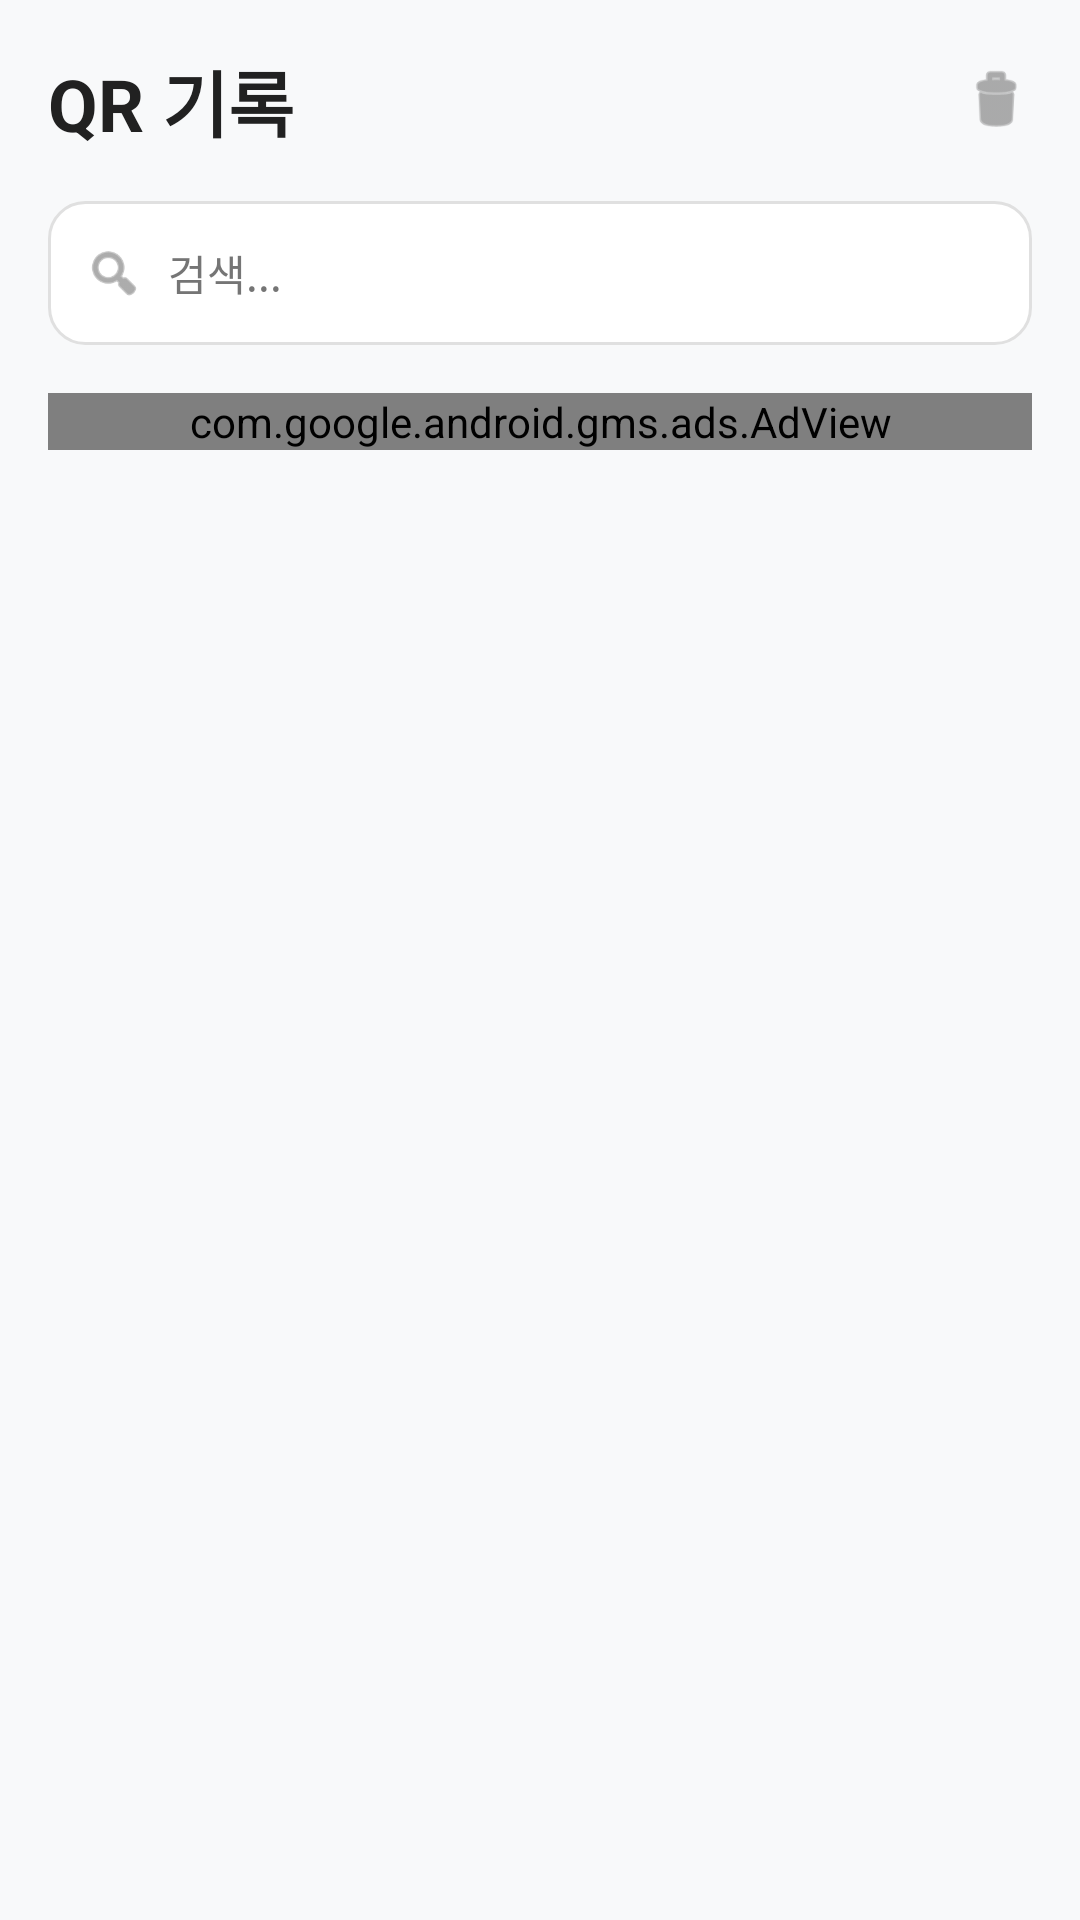

Named icons in this screenshot (1080px x 1920px) and their centers, [x,y]:
delete: [996,99]
search: [114,273]
